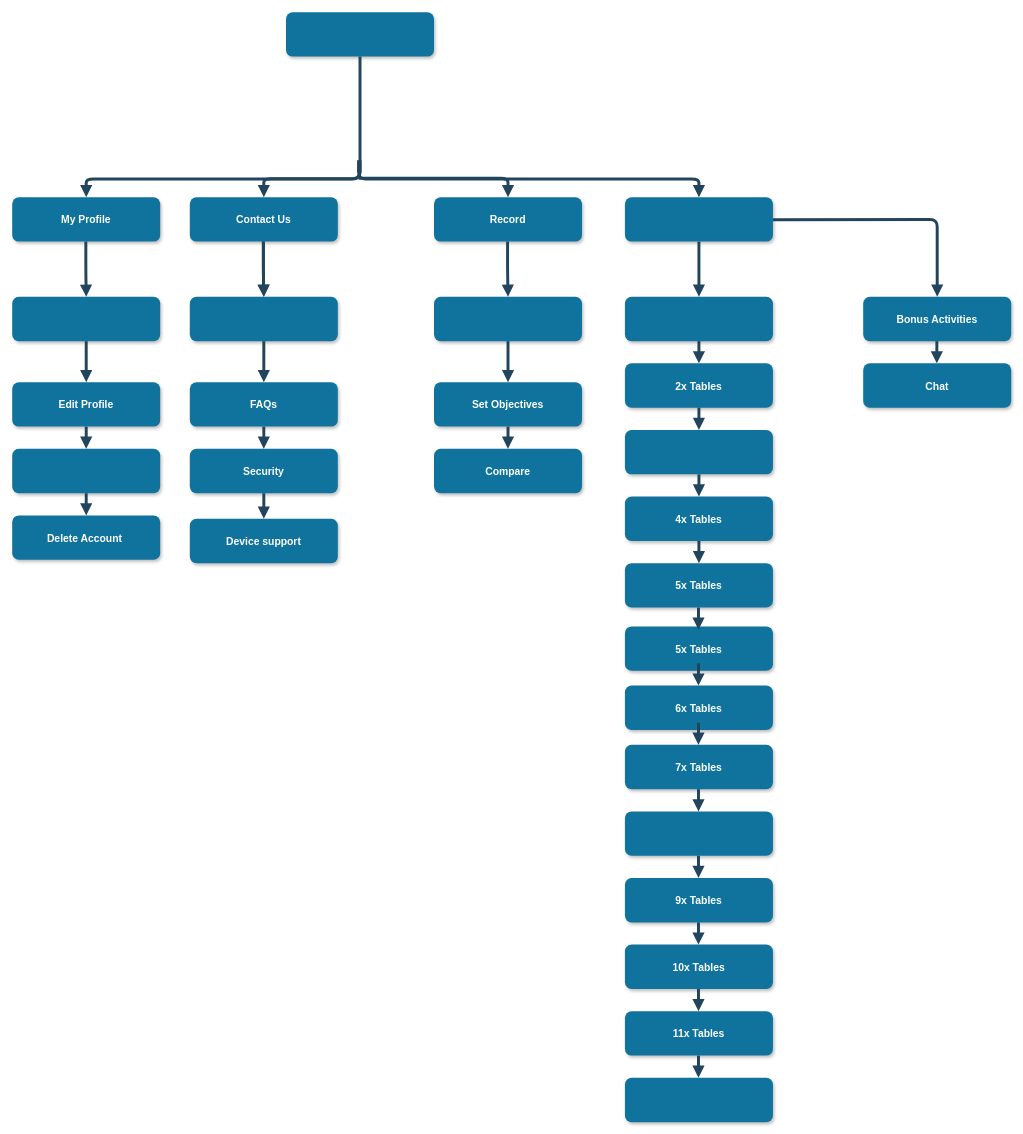
Image size: 1023x1134. Some labels were removed from this diagram. The shapes that lost their labels are listed below. From the top down, each one's centre as x and y in pixels, then its label:
At point (360, 35): "Homepage".
At point (699, 220): "Play".
At point (86, 319): "View Profile".
At point (264, 319): "The company".
At point (508, 319): "View Progress".
At point (699, 319): "1x Tables".
At point (86, 471): "Select Avatar".
At point (699, 453): "3x Tables".
At point (699, 834): "8x Tables".
At point (699, 1100): "12x Tables".
